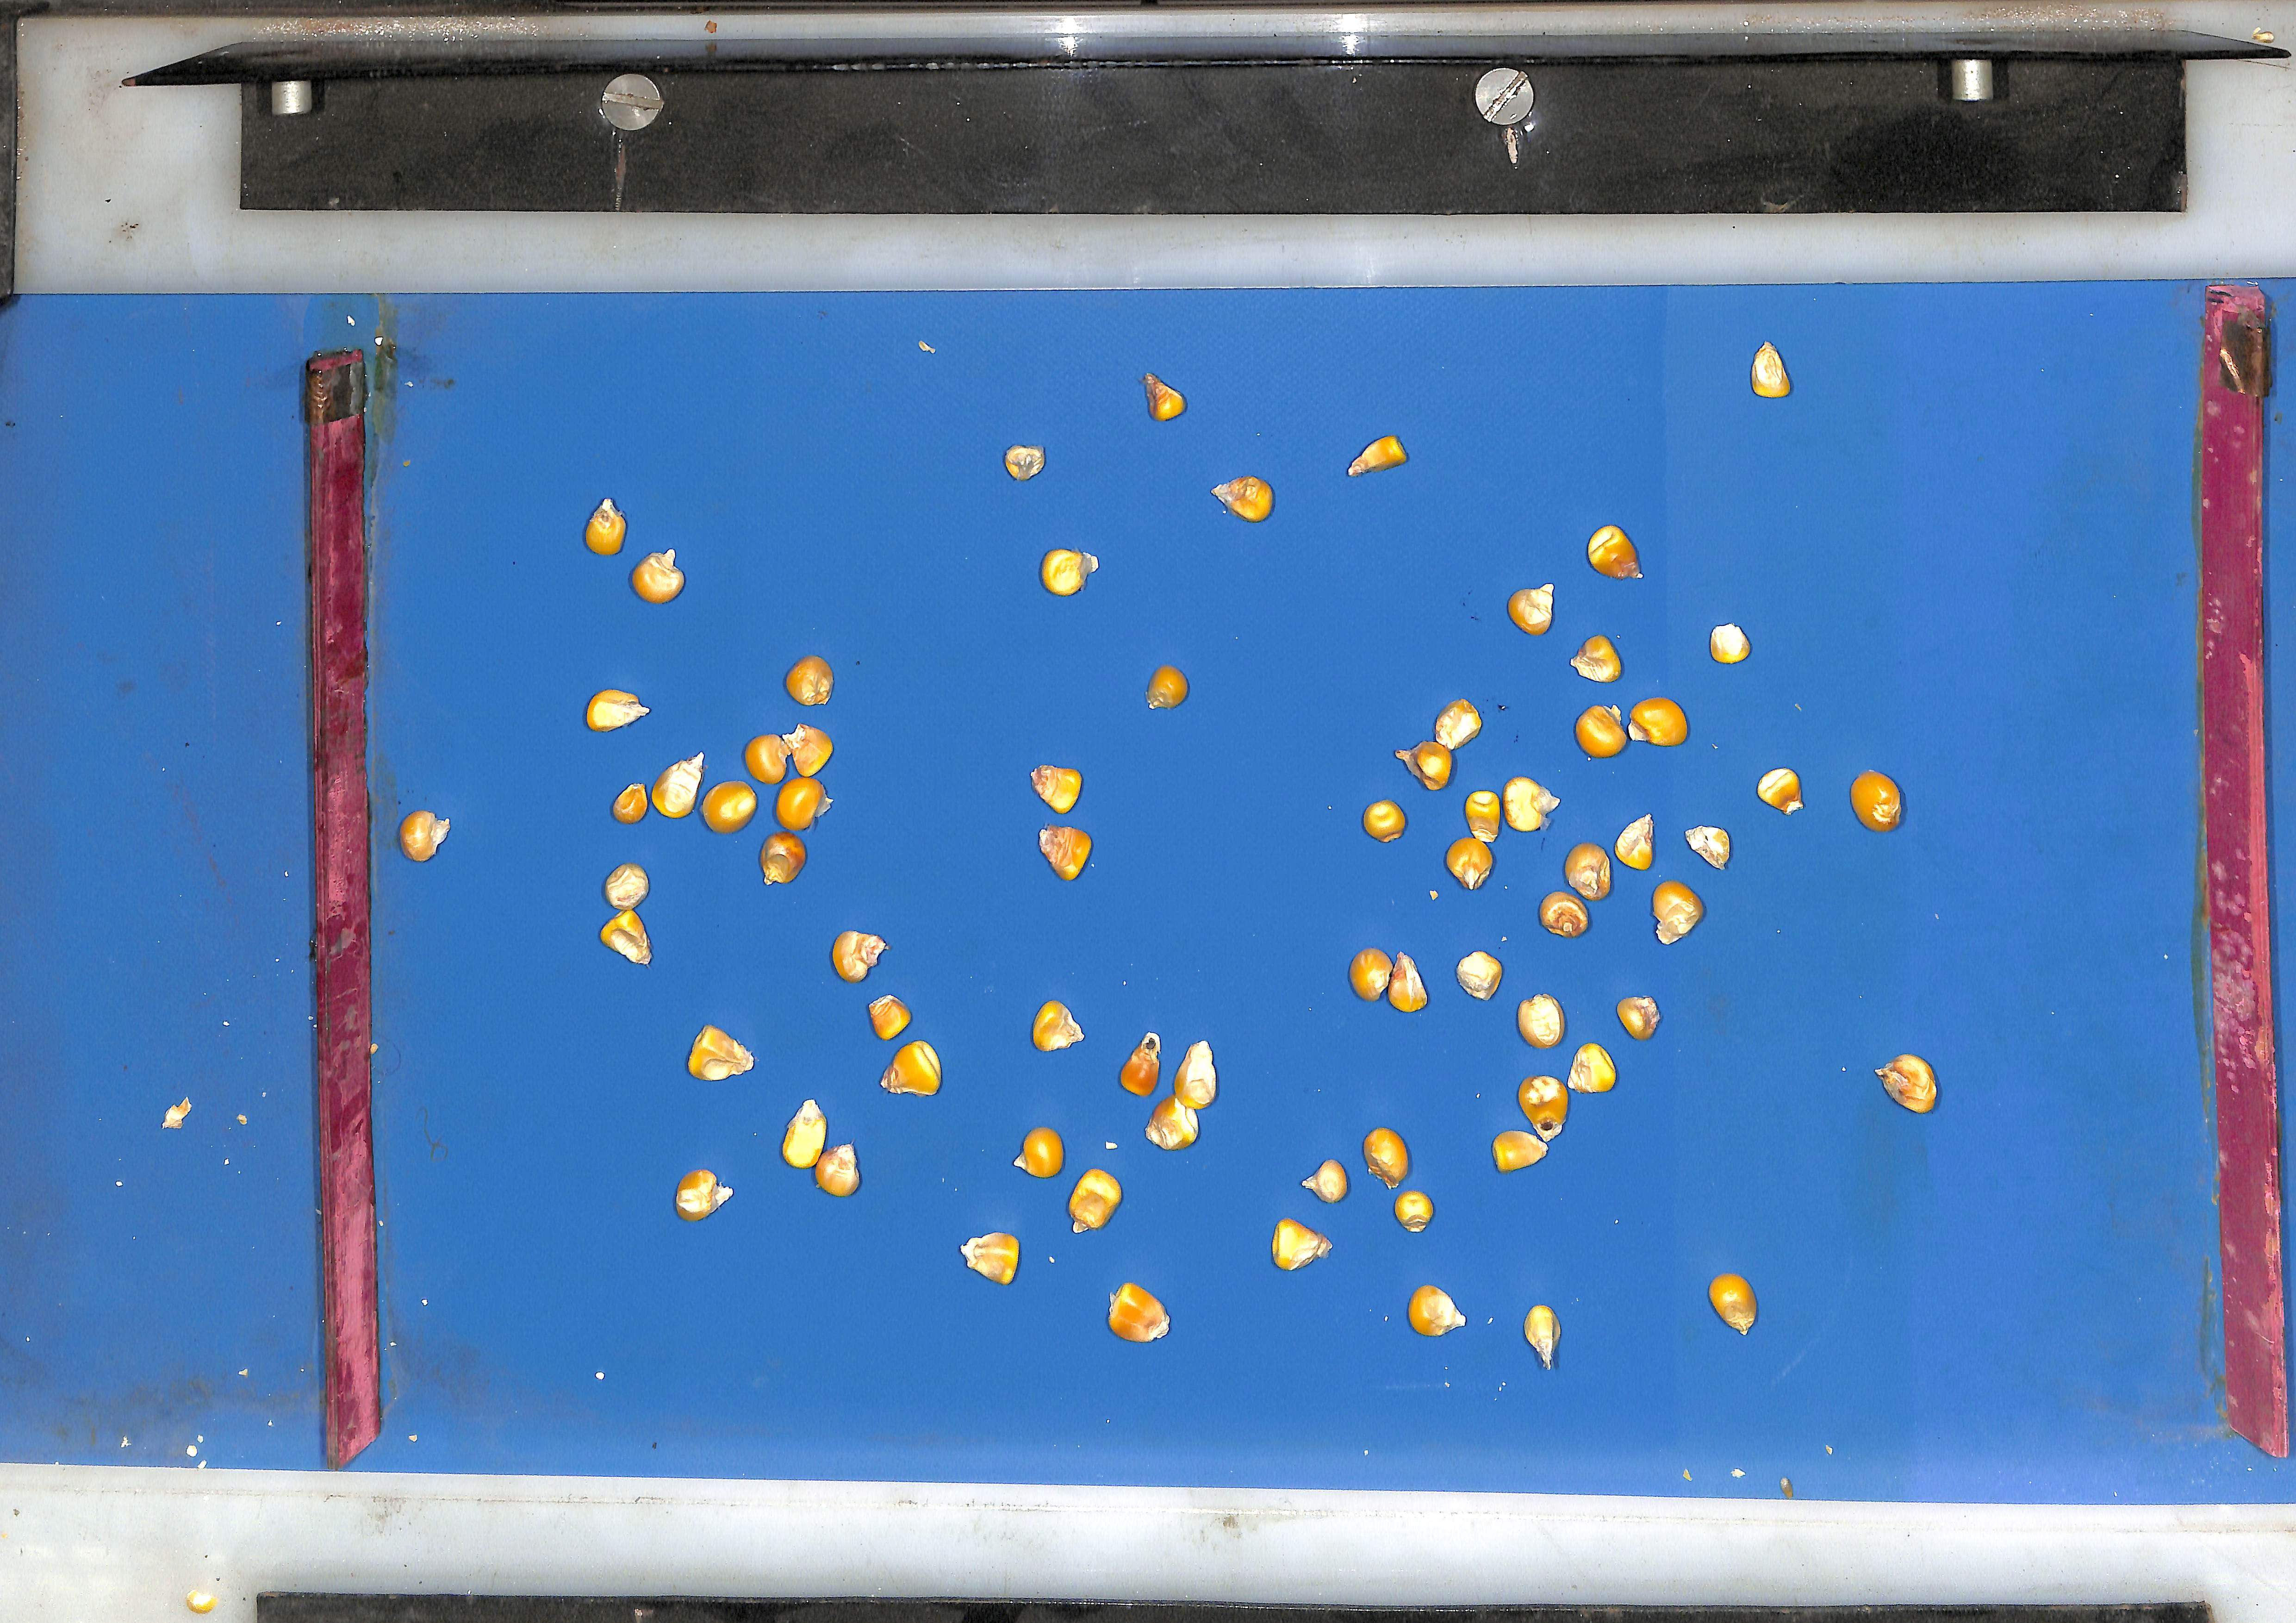Im-Sh: (1397, 699, 1483, 790), (686, 1025, 753, 1081), (1108, 1284, 1170, 1343), (1879, 1054, 1941, 1113), (1068, 1170, 1122, 1234), (649, 753, 703, 817), (1519, 1076, 1570, 1142), (779, 1099, 827, 1169), (881, 1041, 941, 1096), (1655, 881, 1707, 943), (774, 775, 830, 831), (1505, 775, 1561, 830), (1273, 1219, 1332, 1272), (960, 1234, 1019, 1285), (1854, 770, 1904, 831), (1711, 1275, 1760, 1337), (1038, 824, 1092, 880), (1174, 1042, 1217, 1110), (1409, 1286, 1467, 1338), (1589, 523, 1643, 577), (830, 931, 888, 982), (700, 780, 756, 833), (673, 1171, 730, 1222), (629, 548, 683, 602), (1146, 1097, 1199, 1151), (598, 910, 650, 965), (1576, 705, 1630, 757), (1632, 696, 1691, 744), (781, 723, 833, 777), (1213, 474, 1274, 520), (1040, 547, 1099, 594), (1364, 1129, 1410, 1188), (584, 688, 648, 730), (1566, 842, 1613, 900), (1120, 1033, 1162, 1097), (1032, 1000, 1083, 1052), (1387, 952, 1430, 1013), (1518, 994, 1567, 1049), (758, 830, 806, 884), (397, 810, 447, 861), (1030, 764, 1082, 812), (813, 1144, 860, 1198), (1569, 1043, 1619, 1093), (784, 654, 833, 705), (1573, 633, 1624, 681), (1447, 837, 1495, 889), (582, 496, 624, 554), (1349, 433, 1407, 474), (1526, 1306, 1563, 1370), (1509, 582, 1556, 633), (1436, 698, 1483, 748), (1017, 1129, 1064, 1179), (1541, 891, 1592, 937), (1350, 948, 1394, 1001), (1494, 1130, 1549, 1172), (1458, 951, 1504, 1000), (743, 733, 788, 783), (1617, 813, 1655, 869), (1143, 370, 1186, 419), (1465, 789, 1505, 842), (1760, 767, 1806, 813), (602, 862, 647, 909), (866, 994, 910, 1041), (1305, 1160, 1350, 1204), (1687, 825, 1733, 869), (1363, 799, 1408, 841), (1619, 997, 1662, 1040), (1146, 665, 1189, 707), (1395, 1191, 1436, 1234), (1712, 623, 1753, 662), (1003, 443, 1045, 479), (610, 783, 647, 822)
